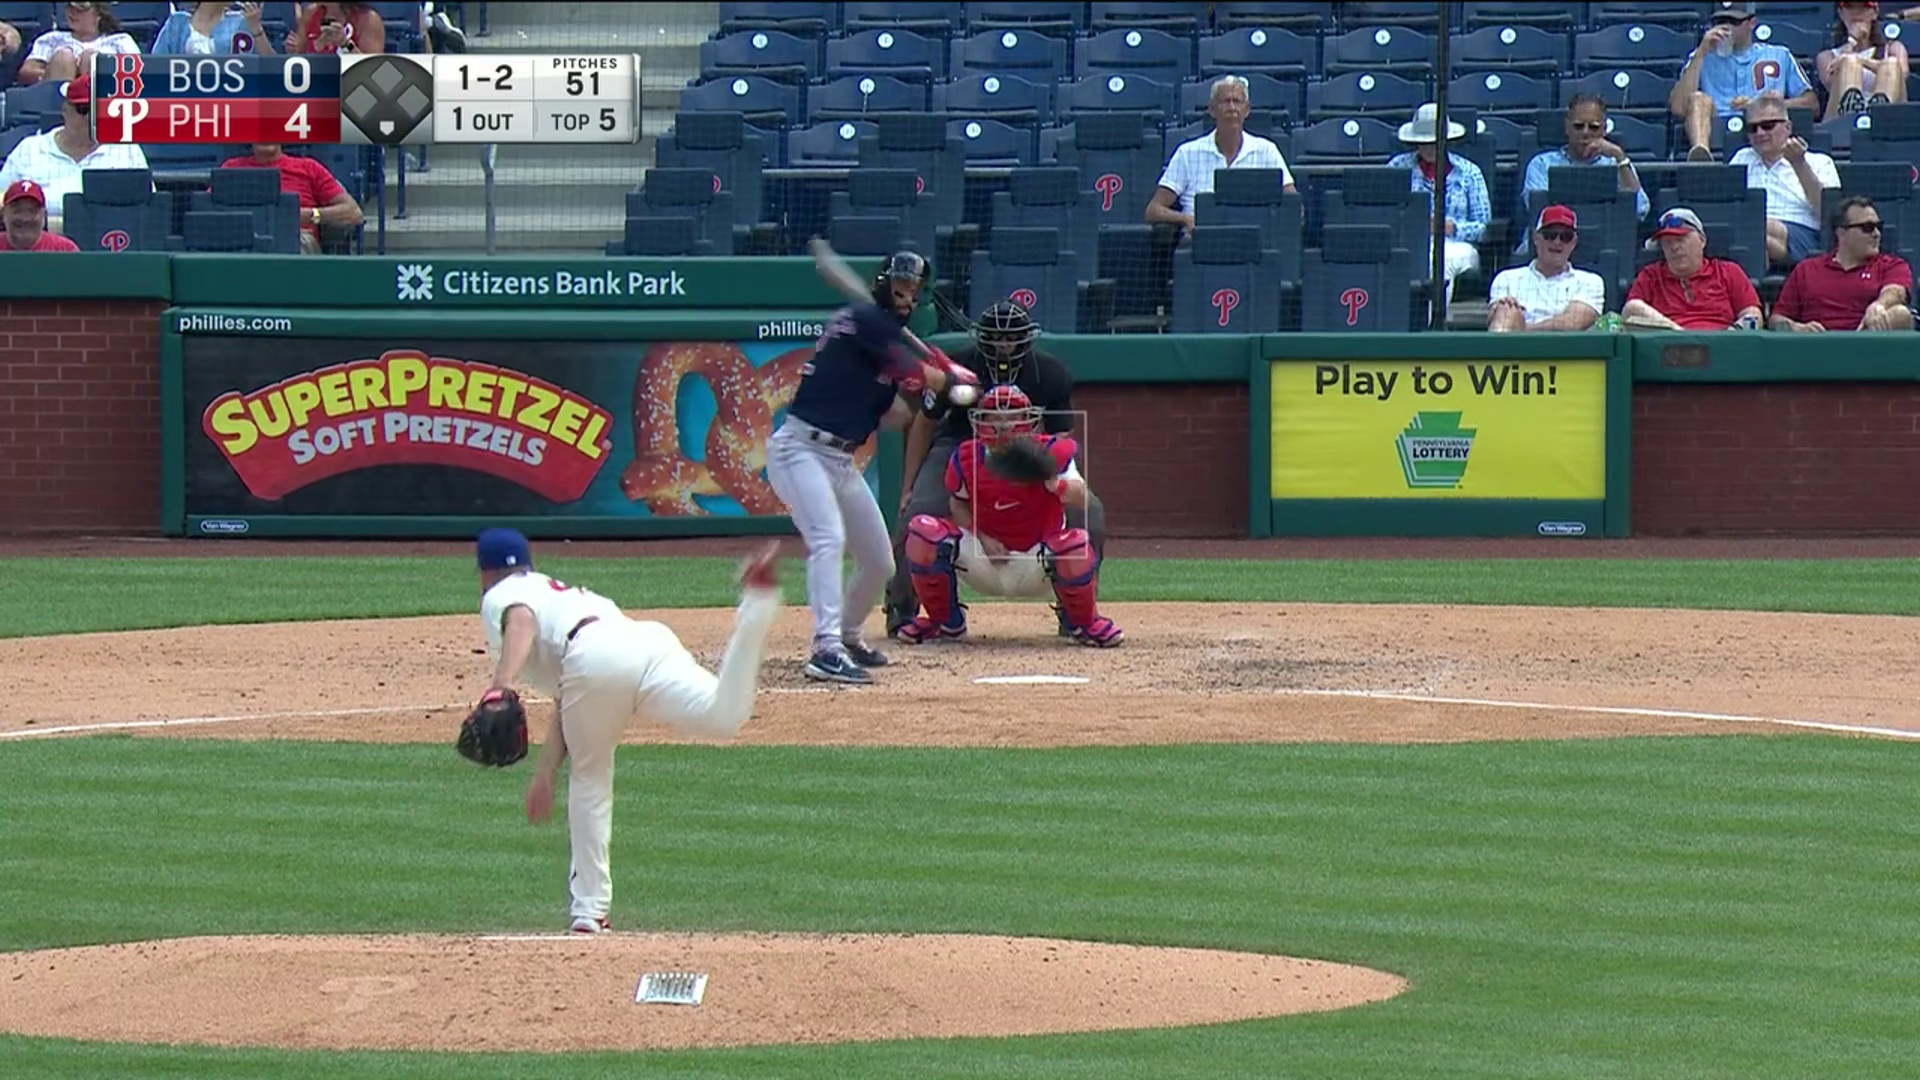baseball: (949, 384, 977, 405)
